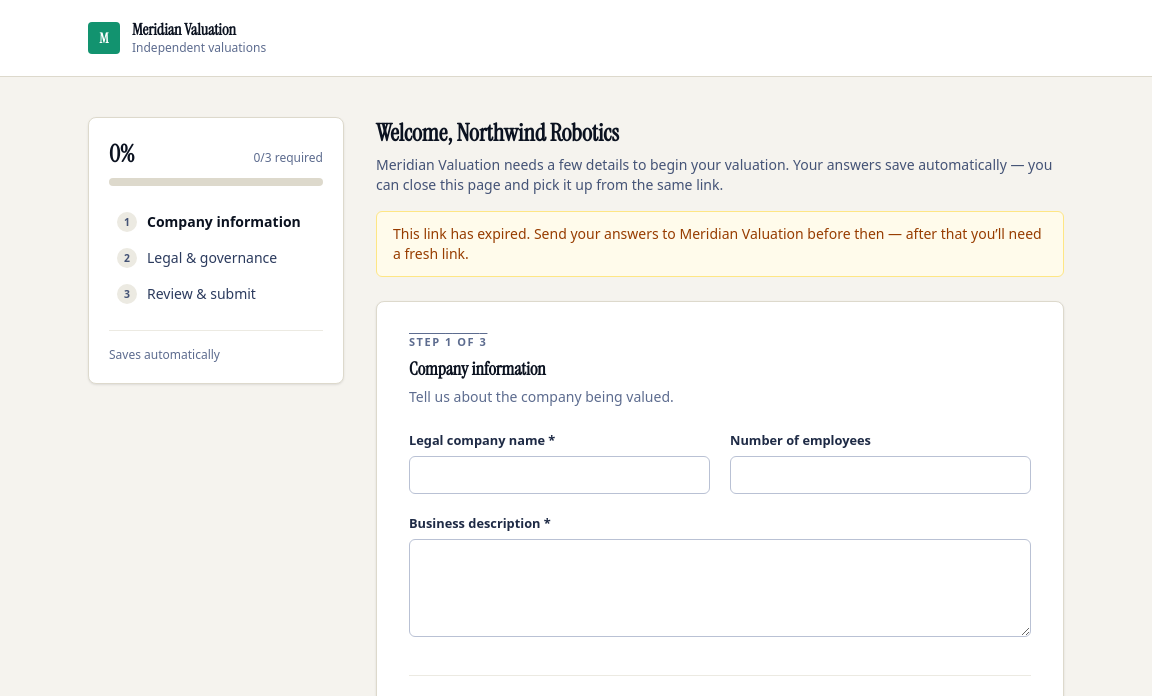
Test: ClientIntakePage › flushes pending answers before moving on rather than after a pause
expect the heading "Welcome, Northwind Robotics" is shown: met, box [376,117,619,148]
Type "42" into the number field labelled "Number of employees".
click(880, 475); type("42")  # box [730,456,1031,494]
(page scrolled)
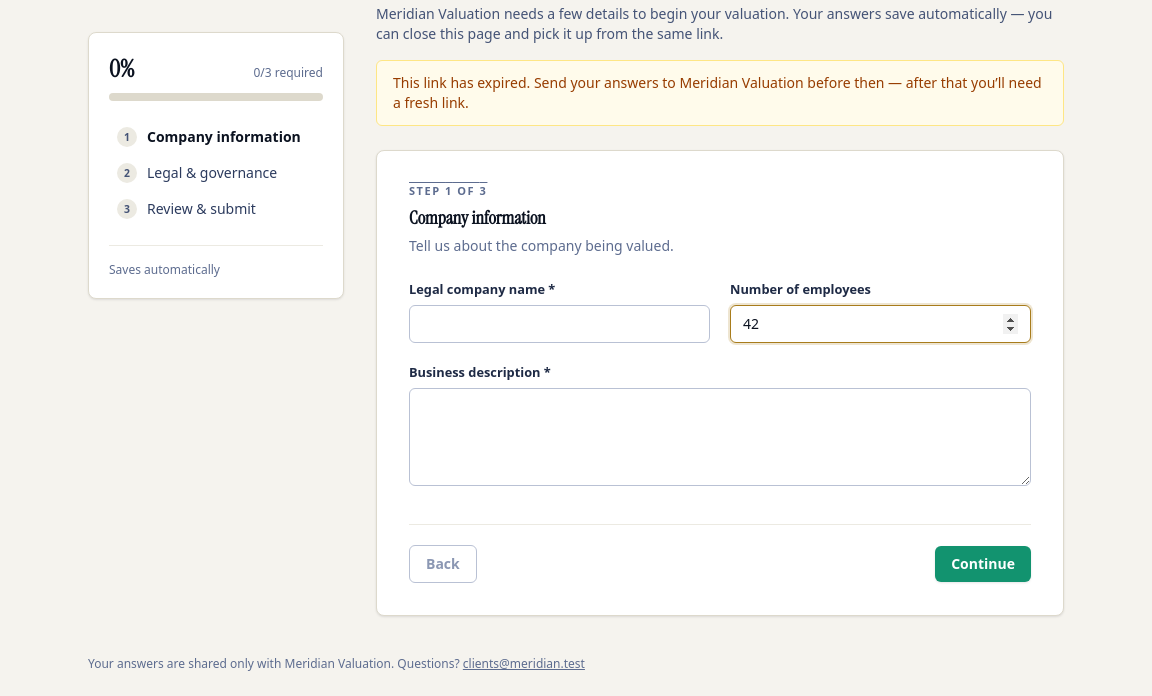
Click the button "Continue".
click(983, 564)  # box [935,546,1031,582]
(page scrolled)
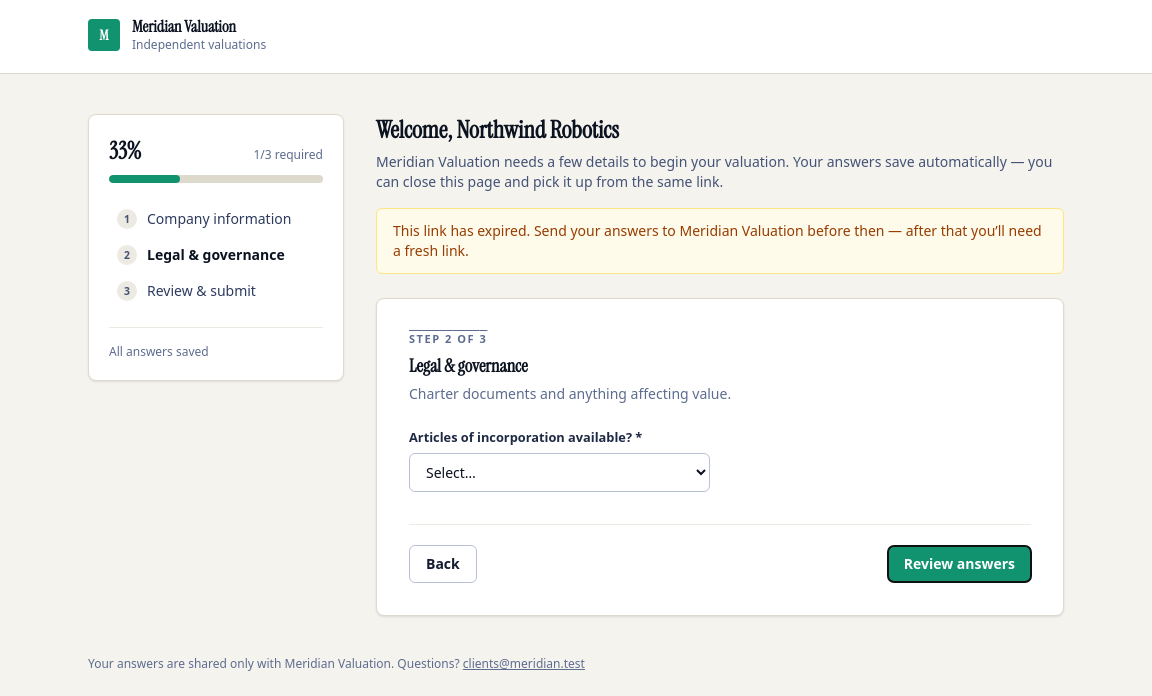
expect the heading "Legal & governance" is shown: met, box [409,354,528,378]
